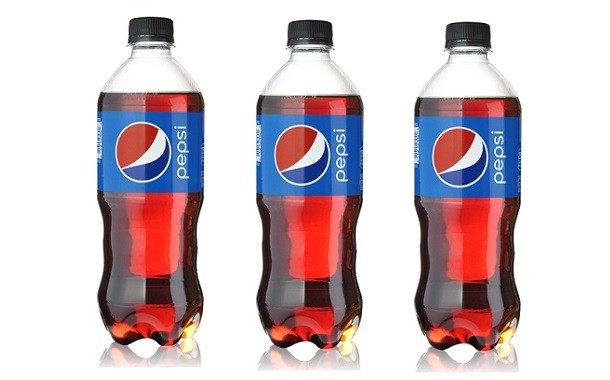pepsi: (272, 123, 330, 185), (113, 119, 169, 182), (431, 124, 487, 187)
